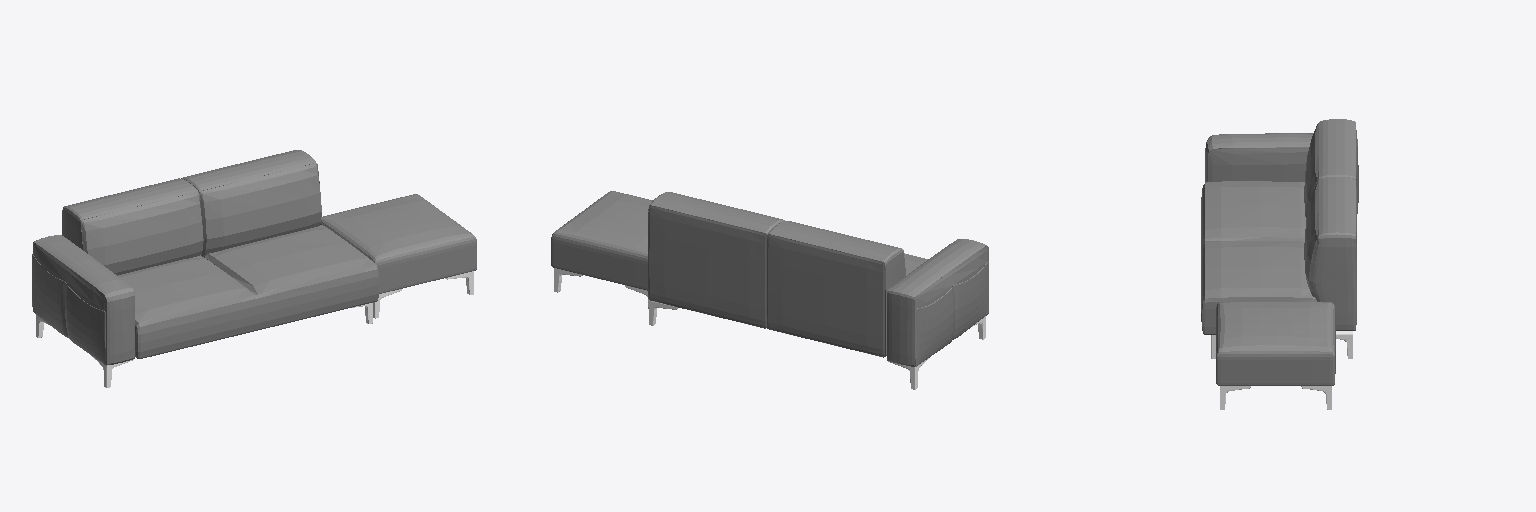
The model's file is design13.obj.
3 views of the same model, side by side, from view 1: azimuth 30°, elevation 25°; view 2: azimuth 150°, elevation 25°; view 3: azimuth 270°, elevation 25° (orthographic).
Visible parts, largest first — view 1: Box060, Box063, Box064, Box068, Box061, Box062, Box066; view 2: Box063, Box064, Box068, Box061, Box062, Box066; view 3: Box060, Box068, Box064, Box061, Box063.
Boxes of the visible parts, x1=… form: Box060: x1=118, y1=225, x2=378, y2=358; Box063: x1=62, y1=178, x2=203, y2=275; Box064: x1=181, y1=150, x2=321, y2=256; Box068: x1=320, y1=194, x2=476, y2=293; Box061: x1=33, y1=235, x2=134, y2=365; Box062: x1=32, y1=254, x2=105, y2=364; Box066: x1=36, y1=303, x2=372, y2=387; Box063: x1=766, y1=221, x2=905, y2=357; Box064: x1=648, y1=192, x2=784, y2=328; Box068: x1=551, y1=191, x2=652, y2=290; Box061: x1=887, y1=239, x2=988, y2=366; Box062: x1=915, y1=261, x2=988, y2=365; Box066: x1=649, y1=300, x2=985, y2=389; Box060: x1=1201, y1=181, x2=1316, y2=334; Box068: x1=1216, y1=302, x2=1335, y2=385; Box064: x1=1304, y1=177, x2=1356, y2=330; Box061: x1=1205, y1=133, x2=1358, y2=213; Box063: x1=1304, y1=119, x2=1356, y2=219.
Bounding box in the file's own units: 2390 × 750 × 856.